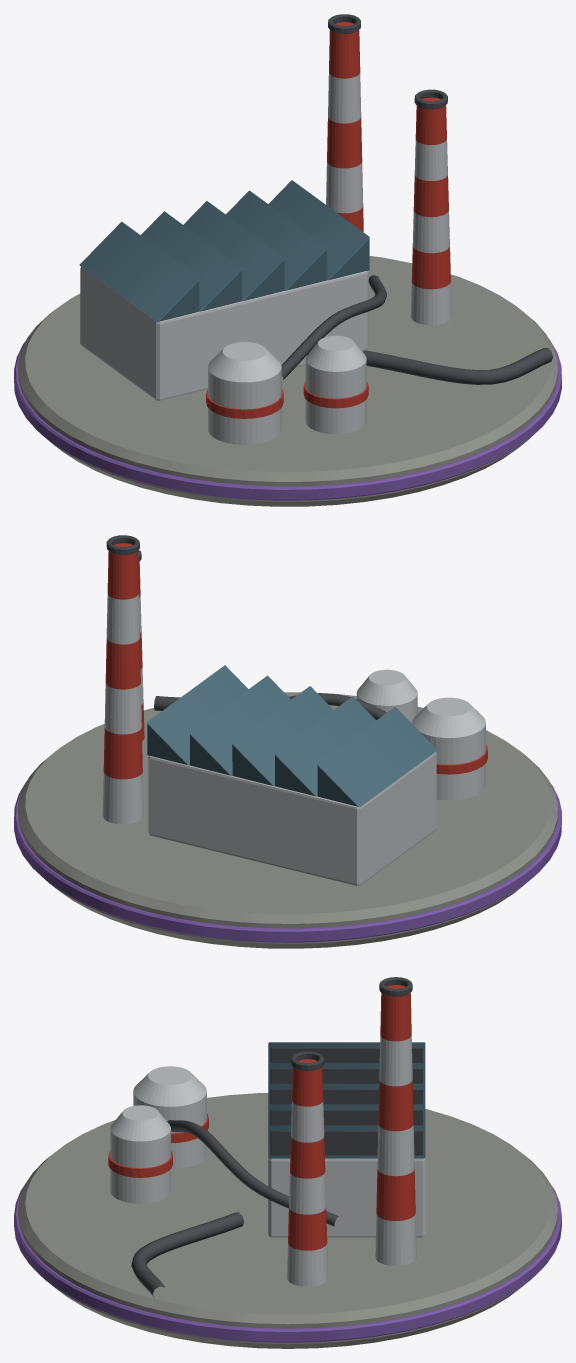
Rendered from cuenca_industria.src.glb.
The picture shows the model from 3 angles, top to bottom: view 1: azimuth 30°, elevation 25°; view 2: azimuth 150°, elevation 25°; view 3: azimuth 270°, elevation 25°; orthographic projection.
Visible parts, largest first — view 1: geo_detail, geo_base; view 2: geo_detail, geo_base; view 3: geo_base, geo_detail.
Part boxes in pixels (left/top/right/bottom): geo_detail: left=79, top=14, right=552, bottom=444; geo_base: left=14, top=256, right=561, bottom=506; geo_detail: left=102, top=535, right=487, bottom=885; geo_base: left=14, top=692, right=561, bottom=948; geo_base: left=14, top=1093, right=561, bottom=1348; geo_detail: left=108, top=977, right=425, bottom=1298.
Bounding box in the file's own units: 0.1116 × 0.0695 × 0.1116.
